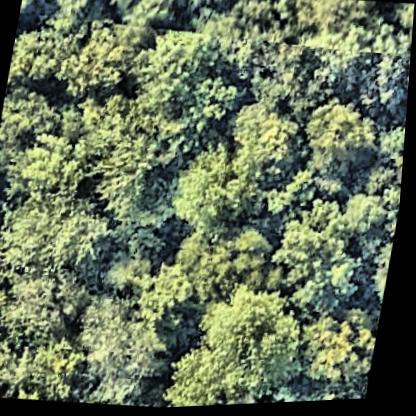tree-top: (163, 283, 324, 409), (67, 292, 179, 396), (166, 222, 288, 316), (91, 130, 192, 235), (0, 184, 114, 276), (271, 218, 372, 320), (162, 147, 267, 240), (298, 98, 389, 192), (0, 258, 92, 347), (288, 0, 390, 73), (226, 100, 312, 183), (127, 30, 211, 114), (9, 130, 97, 207), (8, 6, 92, 85), (298, 317, 384, 393), (66, 14, 134, 101), (201, 0, 285, 56), (93, 238, 164, 296), (0, 84, 61, 151), (182, 69, 244, 132), (136, 261, 196, 322), (334, 189, 394, 249), (370, 28, 413, 109), (99, 0, 179, 36), (0, 311, 21, 374), (42, 0, 104, 21)
